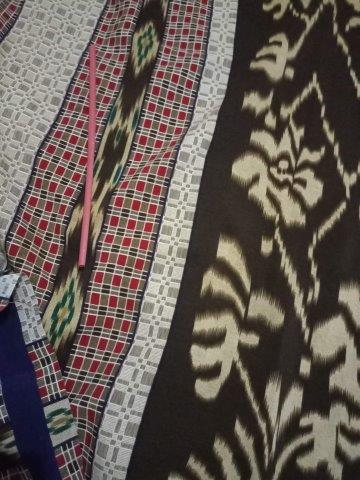sedotan: (78, 47, 96, 266)
